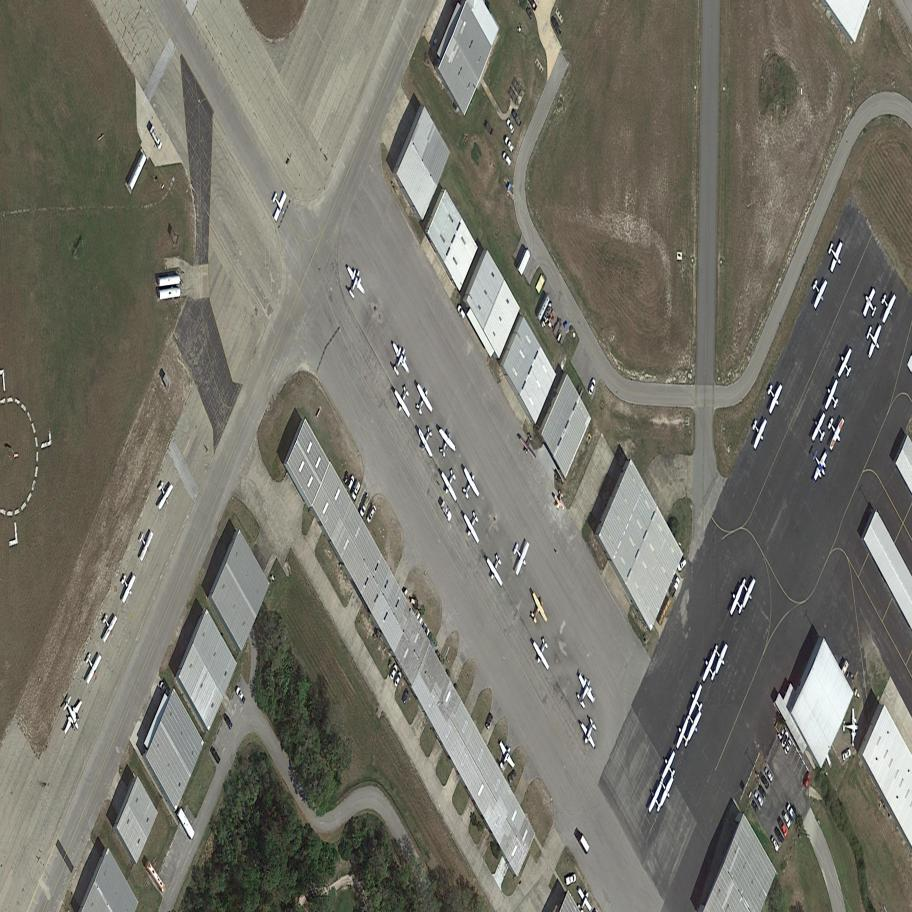large-vehicle: (127, 152, 149, 193), (173, 806, 198, 841), (147, 124, 165, 152), (357, 490, 373, 519), (349, 478, 364, 503), (776, 817, 791, 840), (756, 771, 773, 791), (158, 287, 181, 300), (785, 803, 798, 825), (776, 721, 789, 742), (157, 276, 181, 287), (780, 729, 791, 750), (804, 770, 813, 790)
plane: (50, 684, 95, 746), (334, 258, 376, 309), (380, 334, 419, 386), (566, 667, 605, 718), (425, 421, 468, 467), (801, 439, 838, 492), (523, 628, 562, 678), (520, 586, 558, 635), (404, 378, 442, 426), (817, 405, 852, 457), (451, 461, 488, 510), (73, 641, 109, 691), (385, 377, 422, 425), (432, 460, 469, 508), (477, 546, 515, 592), (857, 313, 889, 367), (503, 530, 536, 582), (571, 709, 608, 755), (410, 417, 445, 465), (455, 503, 489, 550), (871, 282, 904, 330), (91, 603, 125, 649), (488, 736, 523, 780), (640, 777, 672, 824), (758, 372, 789, 420), (830, 342, 862, 388), (803, 269, 835, 315), (147, 472, 181, 515), (649, 766, 680, 812), (677, 700, 708, 746), (743, 408, 774, 454), (695, 646, 725, 693), (820, 232, 850, 279), (263, 182, 294, 227), (732, 567, 762, 613), (705, 633, 734, 680), (805, 407, 835, 452), (112, 564, 142, 609), (723, 579, 751, 626), (131, 522, 160, 567), (818, 373, 846, 419), (683, 679, 711, 725), (655, 746, 684, 790), (512, 427, 546, 463), (856, 284, 884, 326), (670, 713, 696, 757), (570, 880, 600, 912), (842, 707, 859, 749), (548, 487, 573, 515)
small-vehicle: (438, 499, 454, 523), (548, 15, 564, 38), (233, 684, 249, 707), (365, 503, 379, 525), (509, 108, 524, 128), (751, 789, 766, 809), (755, 781, 770, 801), (772, 825, 786, 846), (209, 746, 223, 767), (502, 135, 516, 155), (768, 835, 782, 855), (387, 662, 400, 683), (762, 765, 776, 784), (780, 811, 794, 830), (669, 577, 682, 597), (222, 712, 235, 731), (675, 557, 690, 573), (839, 748, 855, 763), (586, 377, 598, 397), (500, 151, 514, 168), (455, 303, 468, 321), (782, 737, 794, 756), (553, 7, 566, 24), (346, 472, 357, 492), (504, 116, 516, 134), (158, 681, 170, 699), (505, 769, 519, 784), (484, 713, 495, 732), (563, 872, 579, 885), (748, 798, 761, 814), (393, 670, 403, 689), (524, 6, 535, 21), (401, 688, 410, 705)
